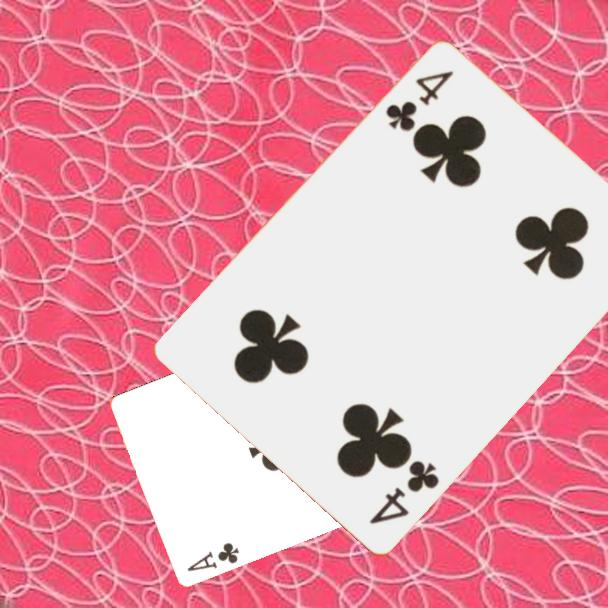c01: (184, 539, 242, 574)
c04: (365, 457, 443, 528), (381, 67, 457, 135)
